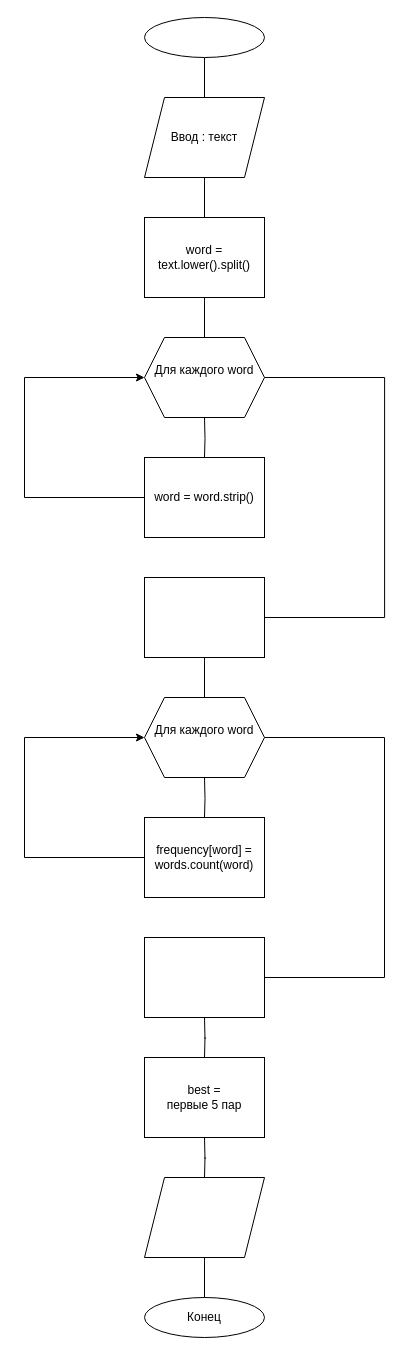
The diagram is 404 pixels wide and 1355 high, and some of its shapes have lost their labels. Each missing label, with the centre of its shape:
frequency = {}: pixel 204 617
Вывод : best: pixel 204 1217
Начало: pixel 204 37
Сортировка пар по убыванию: pixel 204 977
